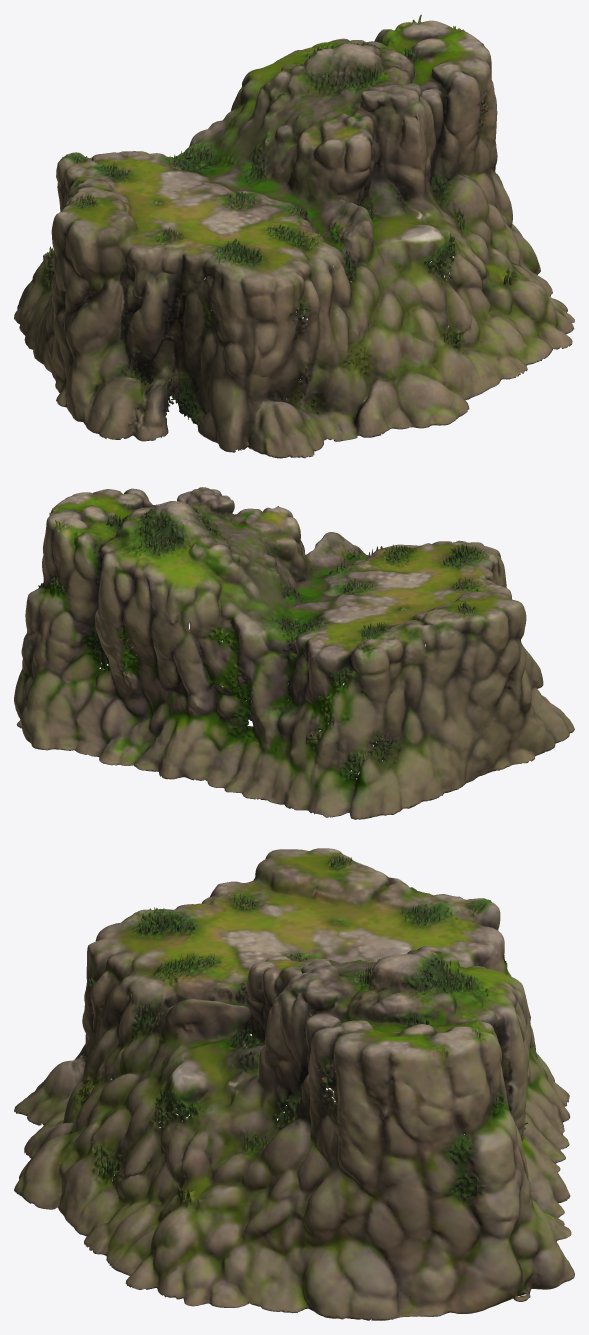
The model's file is Meshy_AI_rocky_terrain_with_te_1016071134_texture.fbx.
3 renders of one model, top to bottom at view 1: azimuth 30°, elevation 25°; view 2: azimuth 150°, elevation 25°; view 3: azimuth 270°, elevation 25°, orthographic. The views are drawn at different scales.
Parts seen in each view (by area): view 1: Mesh_0; view 2: Mesh_0; view 3: Mesh_0.
Boxes of the visible parts, bbox=[...] form: Mesh_0: bbox=[14, 14, 574, 458]; Mesh_0: bbox=[14, 487, 574, 819]; Mesh_0: bbox=[14, 848, 574, 1320].
Bounding box in the file's own units: 198 × 88.16 × 163.
1 material, 1 textured.
